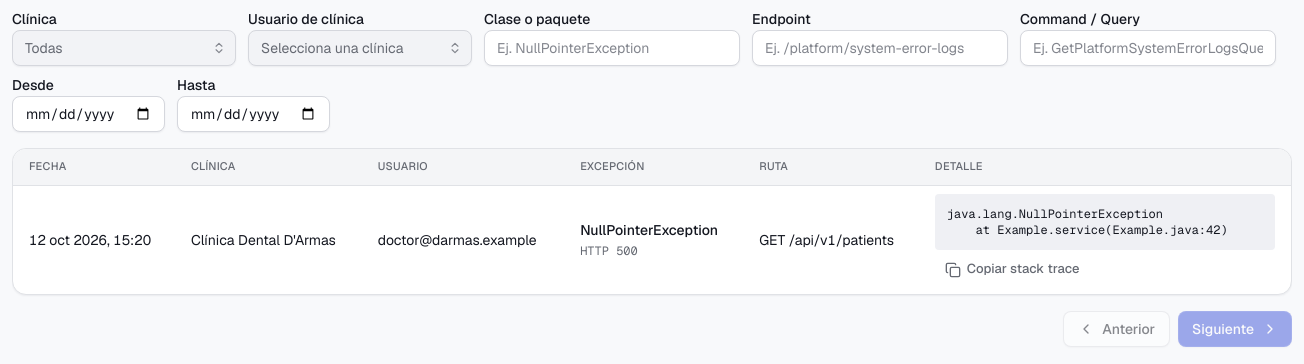
Test: SystemErrorLogView › copia el stack trace completo
Expected: the text "NullPointerException" is shown, [580,220,735,240]
Click the button with aria-label "Copiar stack trace de NullPointerException".
click(1012, 270)  # box [935,254,1089,286]
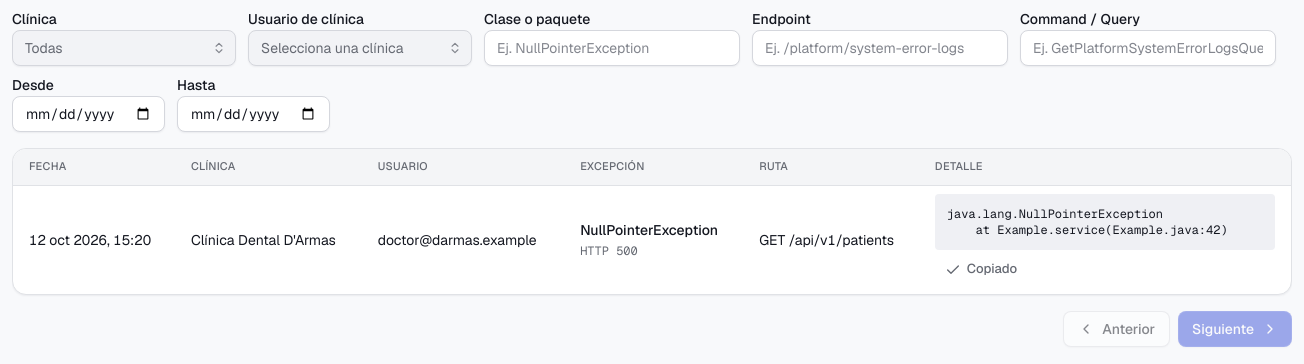
Expected: the button "Copiado" is shown, [935,254,1027,286]
